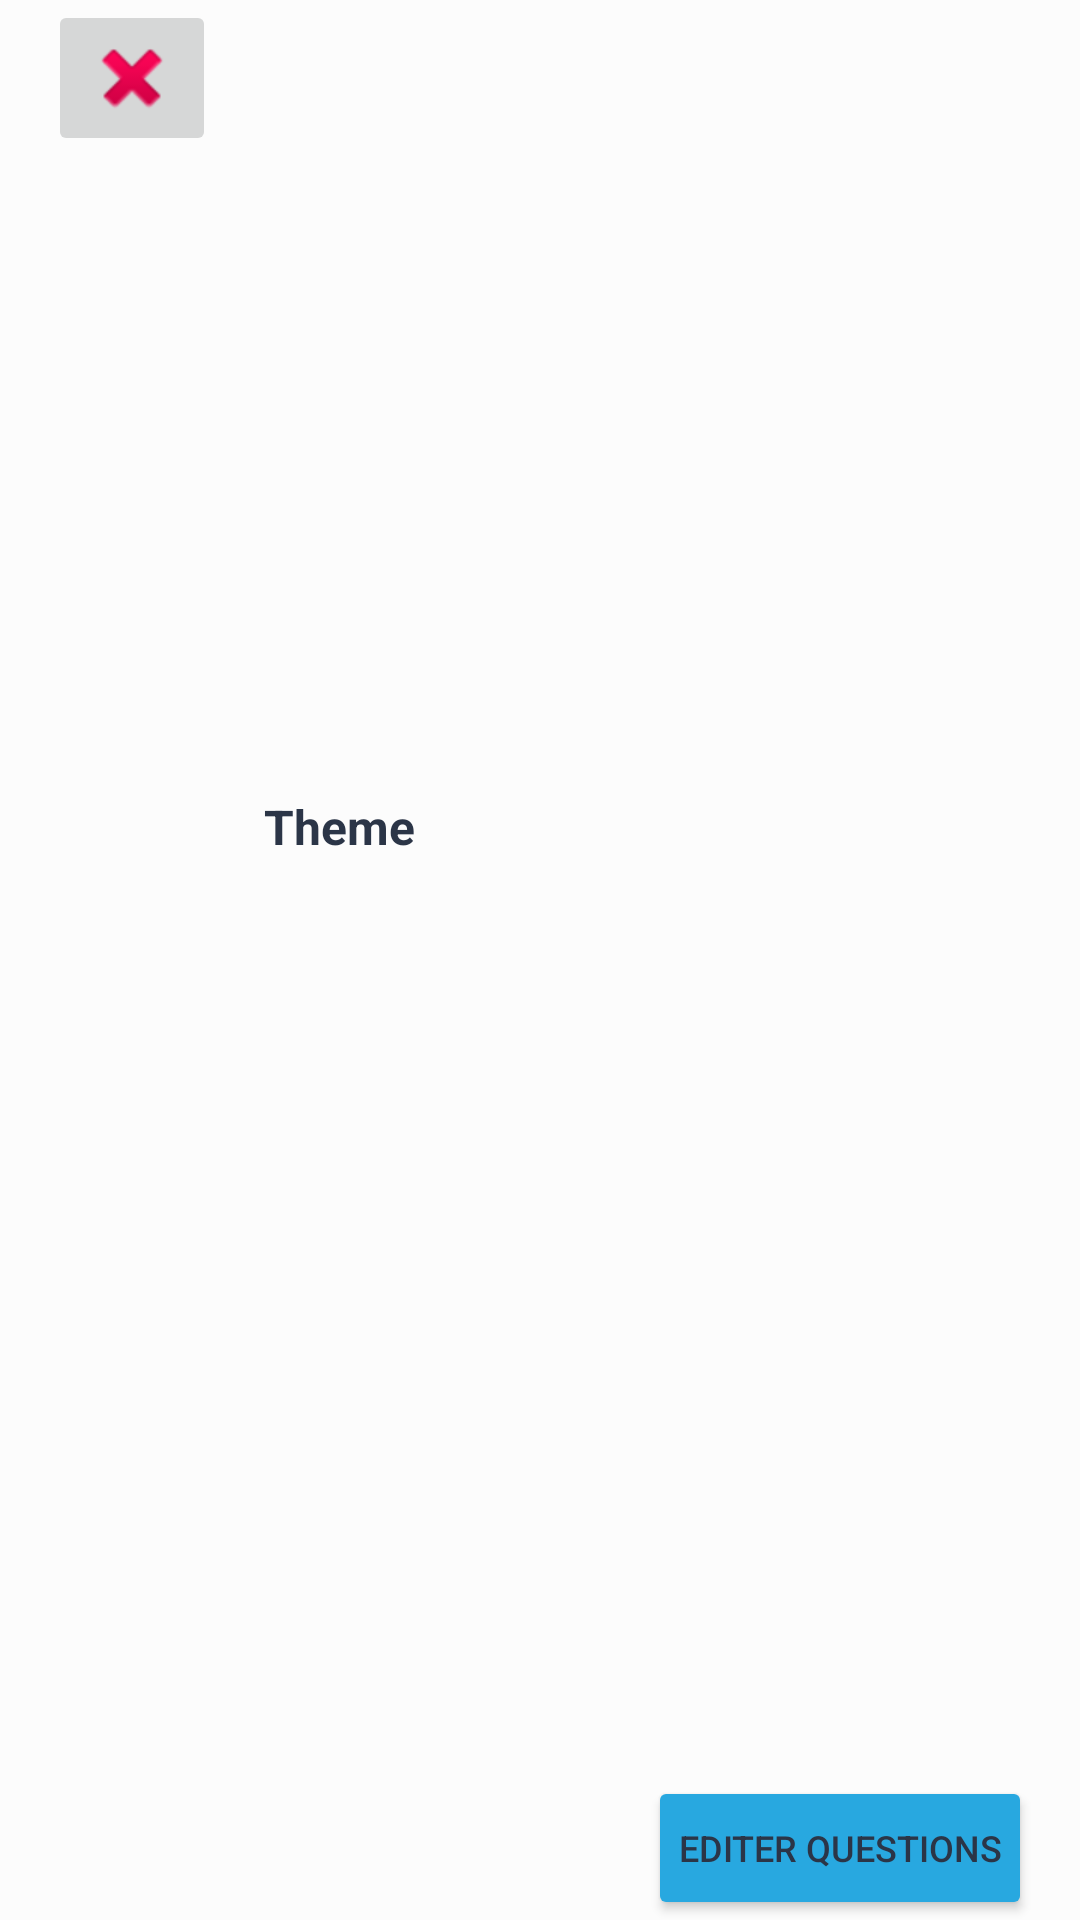

Icon bounding boxes for this 1080*1920 phone screenshot, format (x1=x1, y1=y1, x2=x2, y2=y2):
Icon supprimer: (x1=60, y1=18, x2=204, y2=138)
